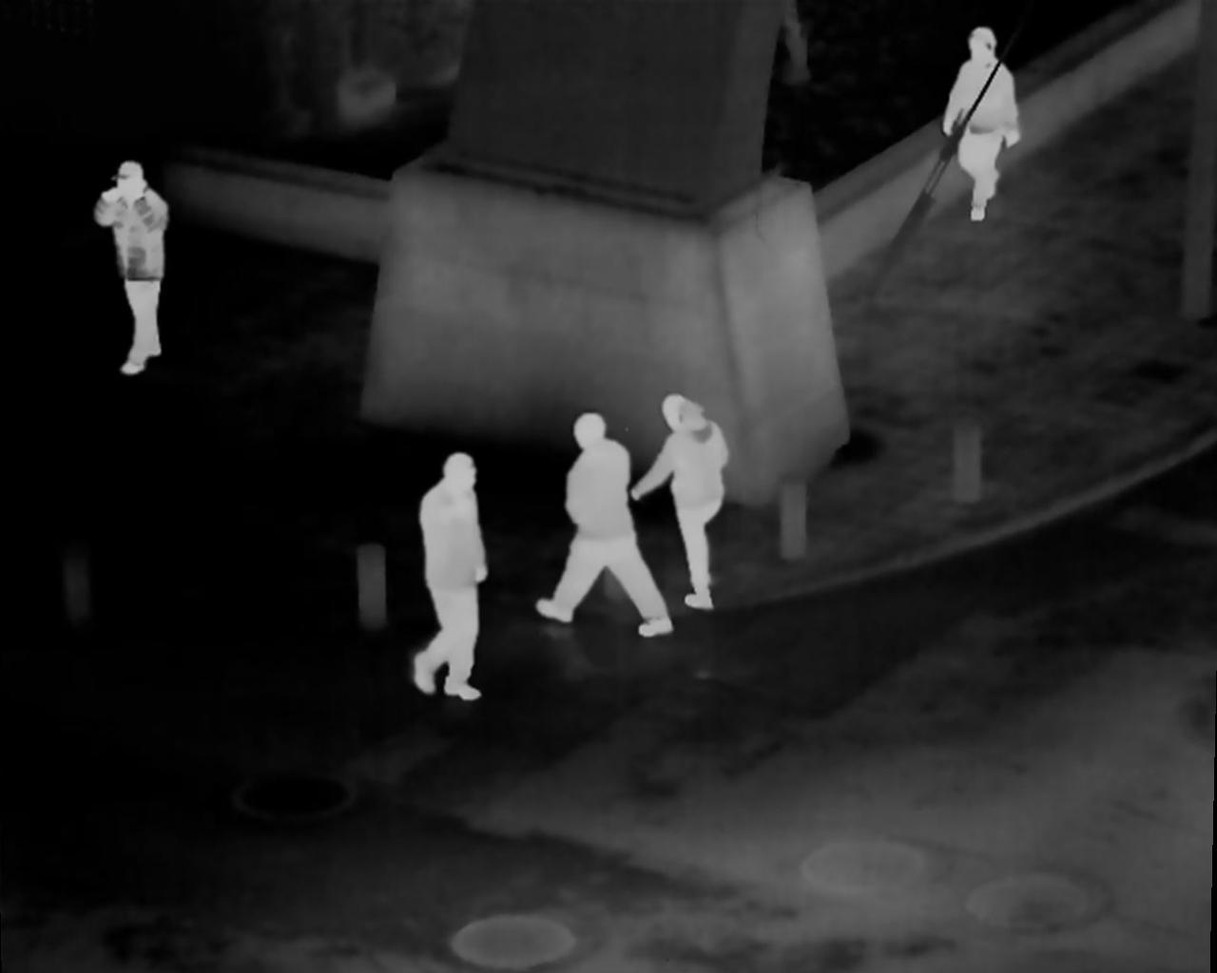person: (548, 417, 678, 647), (630, 395, 736, 625), (409, 454, 489, 712), (928, 31, 1026, 225), (100, 161, 169, 380)
